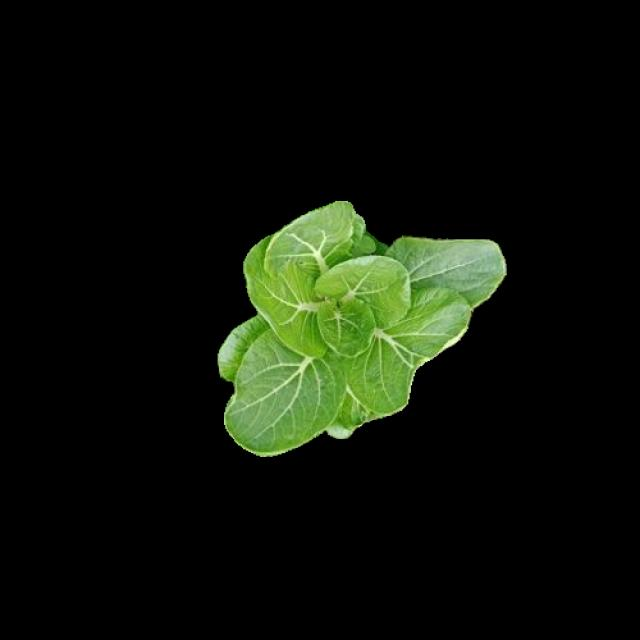healthy: (215, 197, 501, 452)
not-mature: (218, 200, 503, 454)
